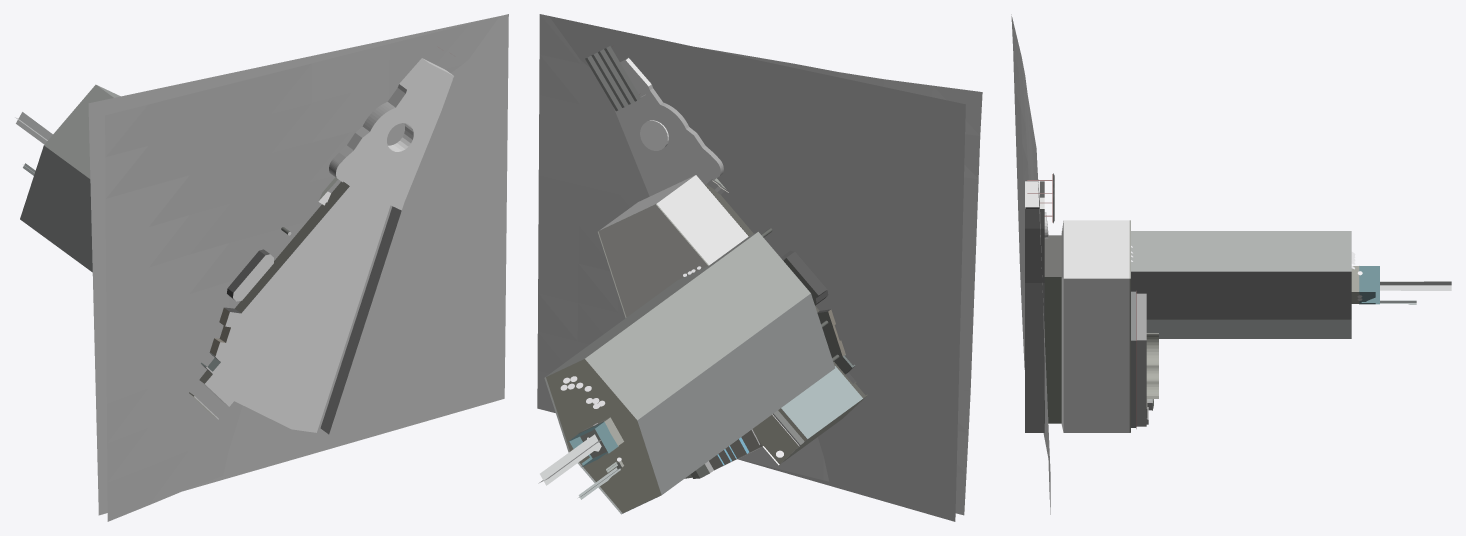
The model's file is Beogradjanka.fbx.
3 renders of one model, left to right at view 1: azimuth 30°, elevation 25°; view 2: azimuth 150°, elevation 25°; view 3: azimuth 270°, elevation 25°, orthographic. The views are drawn at different scales.
Parts seen in each view (by area): view 1: imagetostl_mesh200, imagetostl_mesh848, imagetostl_mesh884, imagetostl_mesh456, imagetostl_mesh877, imagetostl_mesh214, imagetostl_mesh911, imagetostl_mesh0, imagetostl_mesh40, imagetostl_mesh20, imagetostl_mesh21, imagetostl_mesh1 (+84 smaller); view 2: imagetostl_mesh200, imagetostl_mesh214, imagetostl_mesh456, imagetostl_mesh540, imagetostl_mesh827, imagetostl_mesh235, imagetostl_mesh556, imagetostl_mesh407, imagetostl_mesh844, imagetostl_mesh388, imagetostl_mesh573, imagetostl_mesh0 (+42 smaller); view 3: imagetostl_mesh307, imagetostl_mesh433, imagetostl_mesh388, imagetostl_mesh306, imagetostl_mesh234, imagetostl_mesh877, imagetostl_mesh830, imagetostl_mesh713, imagetostl_mesh215, imagetostl_mesh880, imagetostl_mesh335, imagetostl_mesh201 (+1 smaller).
Part boxes in pixels (left/top/right/bottom): imagetostl_mesh200: left=88, top=14, right=508, bottom=515; imagetostl_mesh848: left=205, top=187, right=390, bottom=432; imagetostl_mesh884: left=336, top=64, right=452, bottom=210; imagetostl_mesh456: left=21, top=146, right=92, bottom=272; imagetostl_mesh877: left=320, top=206, right=401, bottom=434; imagetostl_mesh214: left=45, top=85, right=113, bottom=178; imagetostl_mesh911: left=235, top=181, right=349, bottom=313; imagetostl_mesh0: left=105, top=104, right=147, bottom=156; imagetostl_mesh40: left=105, top=187, right=147, bottom=239; imagetostl_mesh20: left=105, top=146, right=147, bottom=198; imagetostl_mesh21: left=106, top=146, right=148, bottom=198; imagetostl_mesh1: left=106, top=105, right=148, bottom=156; imagetostl_mesh200: left=540, top=14, right=965, bottom=521; imagetostl_mesh214: left=586, top=234, right=806, bottom=418; imagetostl_mesh456: left=639, top=296, right=830, bottom=493; imagetostl_mesh540: left=598, top=204, right=707, bottom=317; imagetostl_mesh827: left=614, top=61, right=720, bottom=196; imagetostl_mesh235: left=657, top=175, right=748, bottom=265; imagetostl_mesh556: left=546, top=359, right=661, bottom=512; imagetostl_mesh407: left=561, top=374, right=647, bottom=496; imagetostl_mesh844: left=781, top=366, right=862, bottom=438; imagetostl_mesh388: left=547, top=233, right=755, bottom=375; imagetostl_mesh573: left=752, top=415, right=798, bottom=464; imagetostl_mesh0: left=933, top=85, right=982, bottom=135; imagetostl_mesh307: left=1063, top=278, right=1130, bottom=432; imagetostl_mesh433: left=1131, top=271, right=1349, bottom=319; imagetostl_mesh388: left=1131, top=231, right=1349, bottom=271; imagetostl_mesh306: left=1146, top=319, right=1349, bottom=338; imagetostl_mesh234: left=1063, top=220, right=1129, bottom=278; imagetostl_mesh877: left=1025, top=288, right=1044, bottom=432; imagetostl_mesh830: left=1044, top=277, right=1061, bottom=423; imagetostl_mesh713: left=1025, top=228, right=1044, bottom=282; imagetostl_mesh215: left=1136, top=340, right=1146, bottom=426; imagetostl_mesh880: left=1044, top=235, right=1061, bottom=276; imagetostl_mesh335: left=1359, top=266, right=1379, bottom=291; imagetostl_mesh201: left=1136, top=293, right=1146, bottom=340.
Bounding box in the file's own units: 482627 × 454991 × 516895.
